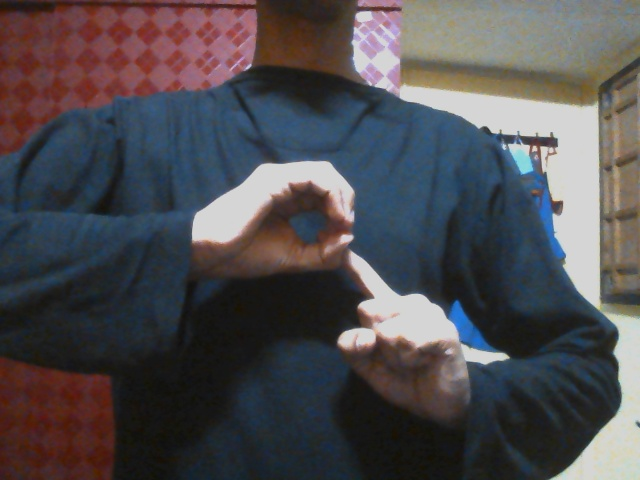Q: (198, 158, 468, 429)
